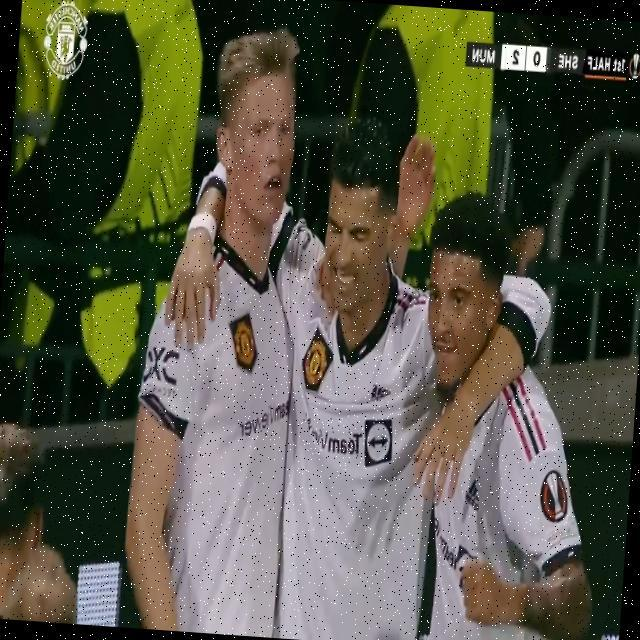Adidas: (464, 474, 482, 511), (370, 384, 392, 405)
TeamViewer: (301, 411, 392, 465), (239, 395, 292, 445)
